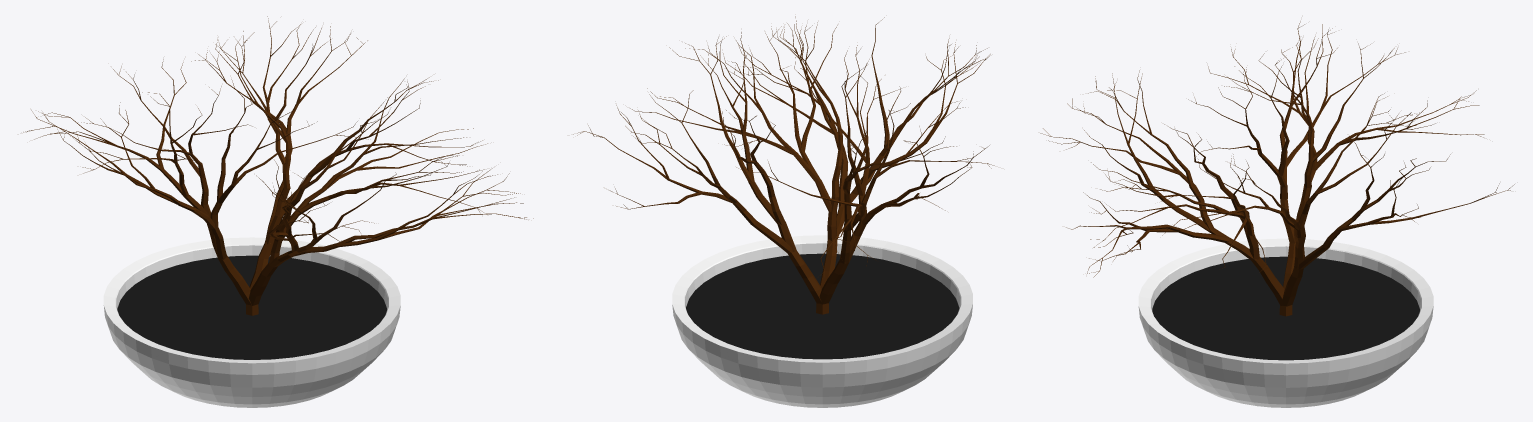
Rendered from vases.fbx.
3 renders of one model, left to right at view 1: azimuth 30°, elevation 25°; view 2: azimuth 150°, elevation 25°; view 3: azimuth 270°, elevation 25°, orthographic.
Parts seen in each view (by area): view 1: brunch; view 2: brunch; view 3: brunch.
Part boxes in pixels (x1=…): brunch: x1=23, y1=16, x2=533, y2=407; brunch: x1=573, y1=16, x2=994, y2=407; brunch: x1=1040, y1=21, x2=1514, y2=407.
Bounding box in the file's own units: 27.9 × 20.84 × 30.27.
